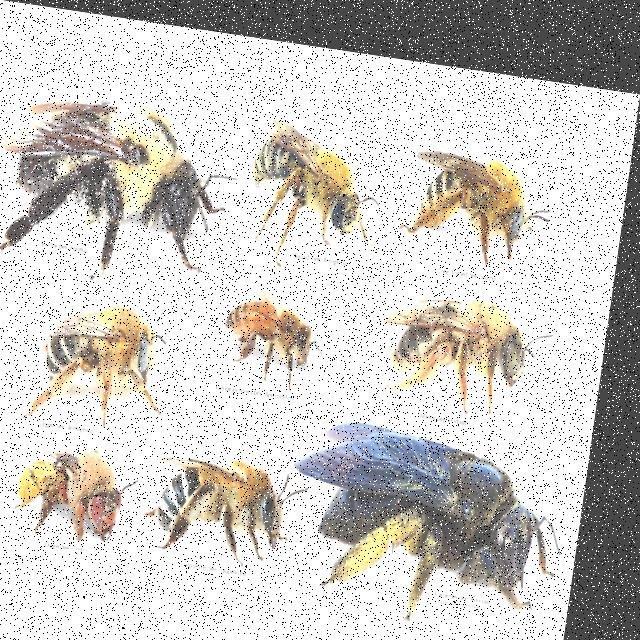Apis-mellifera-scutellata: (221, 259, 344, 408)
Xylocopa: (294, 386, 584, 640)
